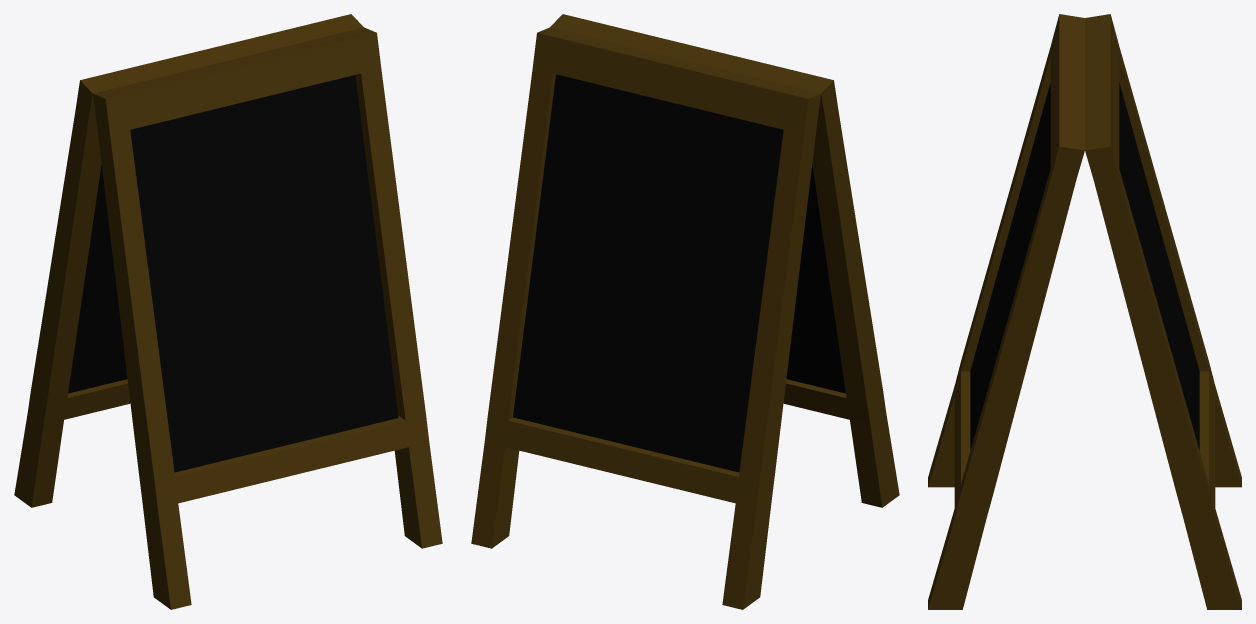
File: board.fbx
3 renders of one model, left to right at view 1: azimuth 30°, elevation 25°; view 2: azimuth 150°, elevation 25°; view 3: azimuth 270°, elevation 25°, orthographic.
Visible parts, largest first — view 1: black_board1; view 2: black_board1; view 3: black_board1.
Part boxes in pixels (x1=…): black_board1: x1=14, y1=14, x2=442, y2=609; black_board1: x1=471, y1=14, x2=899, y2=609; black_board1: x1=928, y1=14, x2=1241, y2=609.
Bounding box in the file's own units: 2 × 3.26 × 2.
